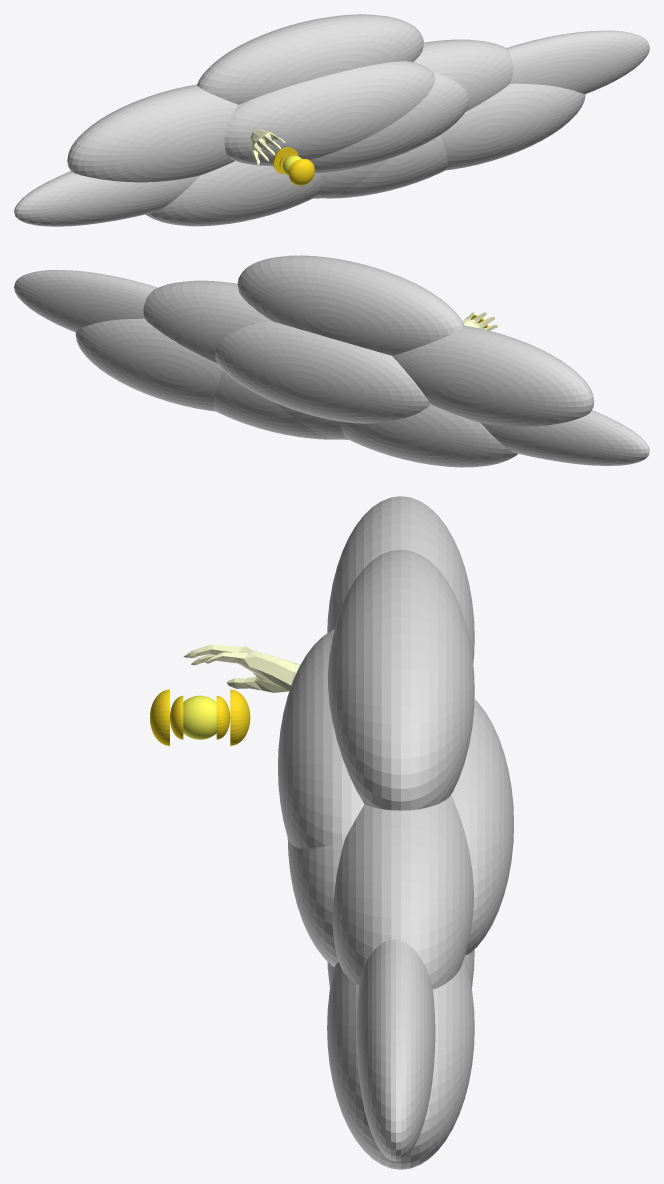
The model's file is tinker.obj.
3 renders of one model, top to bottom at view 1: azimuth 30°, elevation 25°; view 2: azimuth 150°, elevation 25°; view 3: azimuth 270°, elevation 25°, orthographic. The views are drawn at different scales.
Visible parts, largest first — view 1: obj_5, obj_0, obj_3, obj_4; view 2: obj_5, obj_0; view 3: obj_5, obj_0, obj_4, obj_1.
Part boxes in pixels (x1,y1,x2,y2): obj_5: (14,14,649,226); obj_0: (250,129,285,165); obj_3: (289,159,314,185); obj_4: (273,147,298,173); obj_5: (14,255,649,467); obj_0: (462,312,497,330); obj_5: (278,496,513,1169); obj_0: (184,645,300,692); obj_4: (216,689,250,745); obj_1: (183,695,216,739).
Bounding box in the file's own units: 149 × 41 × 37.
